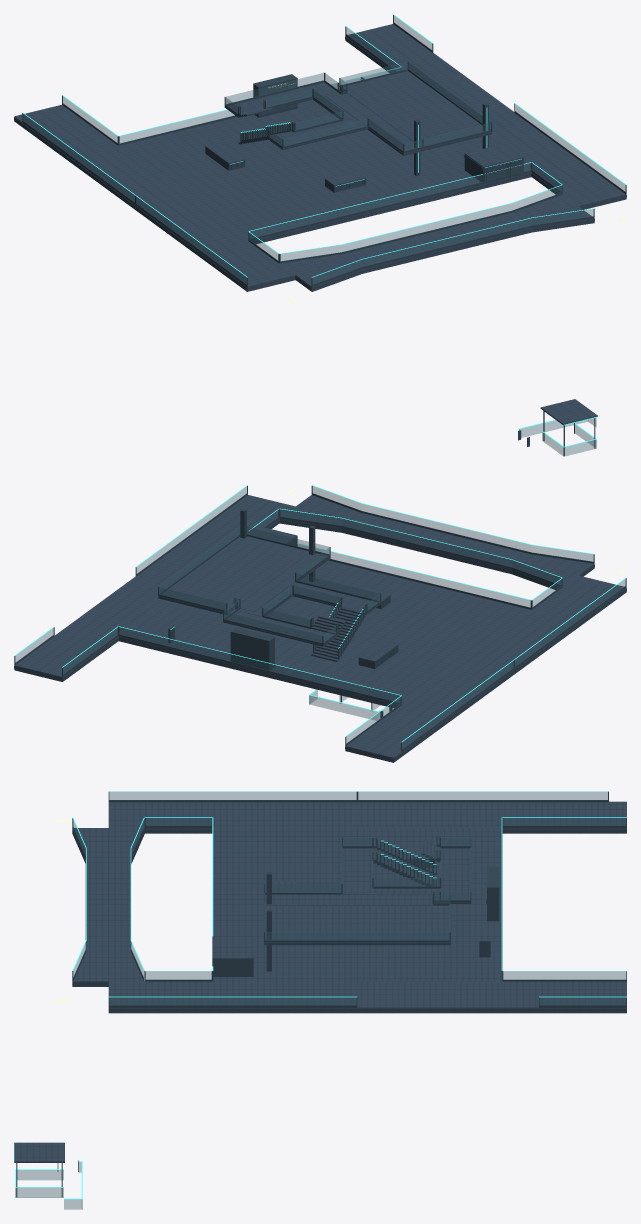
The model's file is east-loggia-portal-2-slender.glb.
3 renders of one model, top to bottom at view 1: azimuth 30°, elevation 25°; view 2: azimuth 150°, elevation 25°; view 3: azimuth 270°, elevation 25°, orthographic. The views are drawn at different scales.
Visible parts, largest first — view 1: east-loggia-portal-2-slender::service-yard, east-loggia-portal-2-slender::V2-BR-M2, east-loggia-portal-2-slender::service-mezzanine-55.2-opening (×2), east-loggia-portal-2-slender::gallery-W-52-300, east-loggia-portal-2-slender::gallery-W-52-326, east-loggia-portal-2-slender::gallery-E-52-326, east-loggia-portal-2-slender::gallery-E-52-300, east-loggia-portal-2-slender::public-guard-0170, east-loggia-portal-2-slender::public-guard-0171, east-loggia-portal-2-slender::public-guard-0178, east-loggia-portal-2-slender::service-jump-shelf, east-loggia-portal-2-slender::public-guard-0177 (+14 smaller); view 2: east-loggia-portal-2-slender::service-yard, east-loggia-portal-2-slender::V2-BR-M2, east-loggia-portal-2-slender::service-mezzanine-55.2-opening (×2), east-loggia-portal-2-slender::gallery-W-52-300, east-loggia-portal-2-slender::gallery-E-52-300, east-loggia-portal-2-slender::gallery-W-52-326, east-loggia-portal-2-slender::gallery-E-52-326, east-loggia-portal-2-slender::public-guard-0171, east-loggia-portal-2-slender::public-guard-0170, east-loggia-portal-2-slender::public-guard-0177, east-loggia-portal-2-slender::public-guard-0178, east-loggia-portal-2-slender::detail-service-utility-bank (+20 smaller); view 3: east-loggia-portal-2-slender::service-yard, east-loggia-portal-2-slender::service-mezzanine-55.2-opening (×2), east-loggia-portal-2-slender::V2-BR-M2, east-loggia-portal-2-slender::gallery-E-52-300, east-loggia-portal-2-slender::gallery-E-52-326, east-loggia-portal-2-slender::gallery-W-52-300, east-loggia-portal-2-slender::gallery-W-52-326, east-loggia-portal-2-slender::public-guard-0052, east-loggia-portal-2-slender::public-guard-0054, east-loggia-portal-2-slender::public-guard-0075, east-loggia-portal-2-slender::public-guard-0204, east-loggia-portal-2-slender::service-jump-shelf (+13 smaller).
Part boxes in pixels (<box>): east-loggia-portal-2-slender::service-yard: <box>119,100,531,244</box>; east-loggia-portal-2-slender::V2-BR-M2: <box>280,194,594,291</box>; east-loggia-portal-2-slender::service-mezzanine-55.2-opening (×2): <box>328,71,491,155</box>; east-loggia-portal-2-slender::gallery-W-52-300: <box>14,104,183,209</box>; east-loggia-portal-2-slender::gallery-W-52-326: <box>135,193,295,291</box>; east-loggia-portal-2-slender::gallery-E-52-326: <box>480,112,626,209</box>; east-loggia-portal-2-slender::gallery-E-52-300: <box>345,24,514,120</box>; east-loggia-portal-2-slender::public-guard-0170: <box>279,185,562,263</box>; east-loggia-portal-2-slender::public-guard-0171: <box>311,208,594,286</box>; east-loggia-portal-2-slender::public-guard-0178: <box>249,162,531,240</box>; east-loggia-portal-2-slender::service-jump-shelf: <box>464,143,523,183</box>; east-loggia-portal-2-slender::public-guard-0177: <box>118,68,401,145</box>; east-loggia-portal-2-slender::service-yard: <box>118,560,530,708</box>; east-loggia-portal-2-slender::V2-BR-M2: <box>279,495,594,589</box>; east-loggia-portal-2-slender::service-mezzanine-55.2-opening (×2): <box>158,536,330,614</box>; east-loggia-portal-2-slender::gallery-W-52-300: <box>345,657,514,762</box>; east-loggia-portal-2-slender::gallery-E-52-300: <box>14,576,170,681</box>; east-loggia-portal-2-slender::gallery-W-52-326: <box>467,575,626,673</box>; east-loggia-portal-2-slender::gallery-E-52-326: <box>136,495,295,584</box>; east-loggia-portal-2-slender::public-guard-0171: <box>311,486,594,563</box>; east-loggia-portal-2-slender::public-guard-0170: <box>279,509,561,586</box>; east-loggia-portal-2-slender::public-guard-0177: <box>118,627,400,704</box>; east-loggia-portal-2-slender::public-guard-0178: <box>297,544,531,609</box>; east-loggia-portal-2-slender::detail-service-utility-bank: <box>230,627,274,670</box>; east-loggia-portal-2-slender::service-yard: <box>213,828,502,981</box>; east-loggia-portal-2-slender::service-mezzanine-55.2-opening (×2): <box>264,894,450,945</box>; east-loggia-portal-2-slender::V2-BR-M2: <box>72,828,144,986</box>; east-loggia-portal-2-slender::gallery-E-52-300: <box>357,981,626,1013</box>; east-loggia-portal-2-slender::gallery-E-52-326: <box>108,981,357,1013</box>; east-loggia-portal-2-slender::gallery-W-52-300: <box>357,801,626,833</box>; east-loggia-portal-2-slender::gallery-W-52-326: <box>108,802,357,833</box>; east-loggia-portal-2-slender::public-guard-0052: <box>357,791,608,802</box>; east-loggia-portal-2-slender::public-guard-0054: <box>108,791,357,802</box>; east-loggia-portal-2-slender::public-guard-0075: <box>108,997,357,1007</box>; east-loggia-portal-2-slender::public-guard-0204: <box>264,932,449,942</box>; east-loggia-portal-2-slender::service-jump-shelf: <box>212,936,253,976</box>.
Bounding box in the file's own units: 47.1 × 30.8 × 59.13.
Materials: 5 (1 with a texture image).
